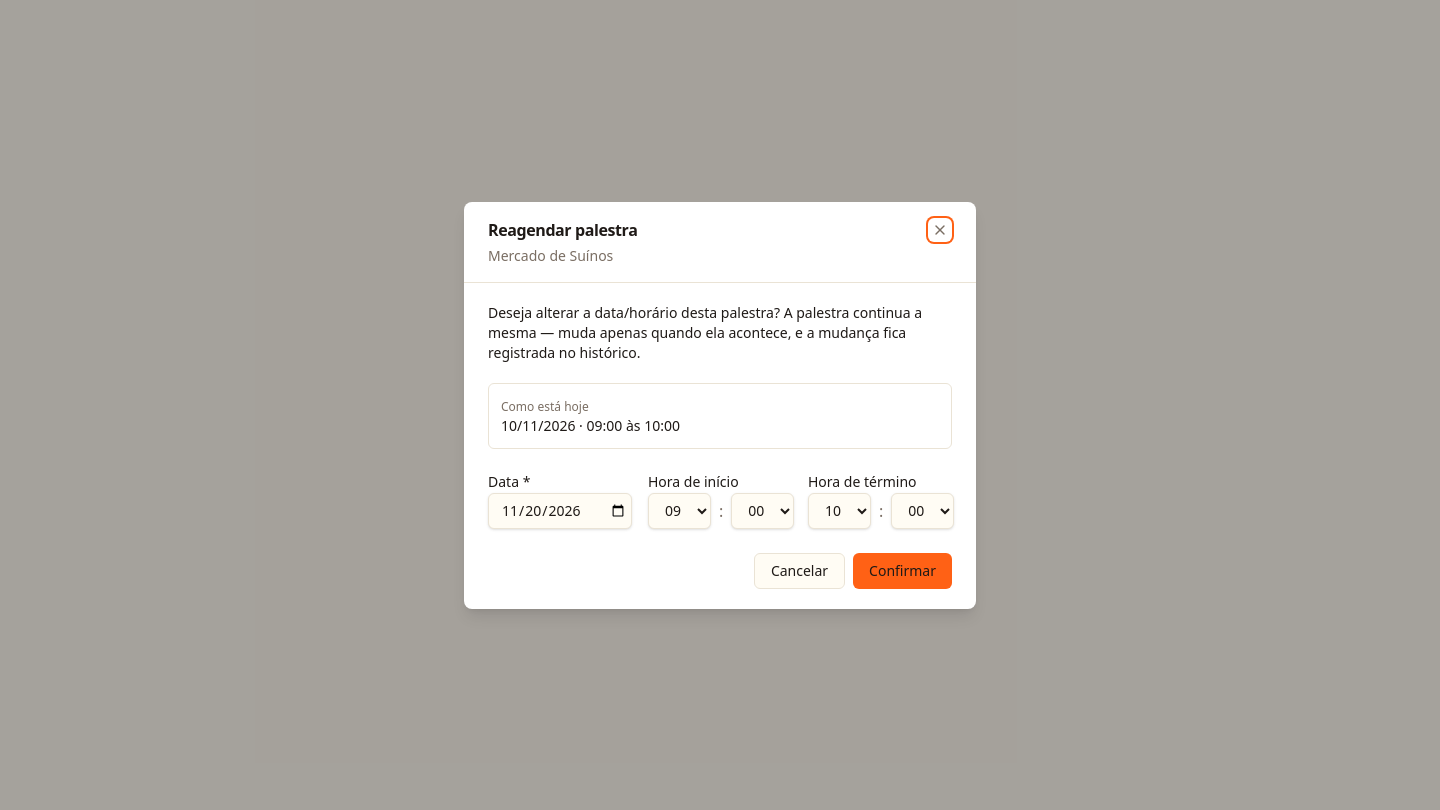
§27 o reagendamento › recusa do servidor NÃO move nada e mostra mensagem amigável
This screenshot has width=1440, height=810.
Click the button "Confirmar". click: (903, 570)
box: [853,552,952,588]
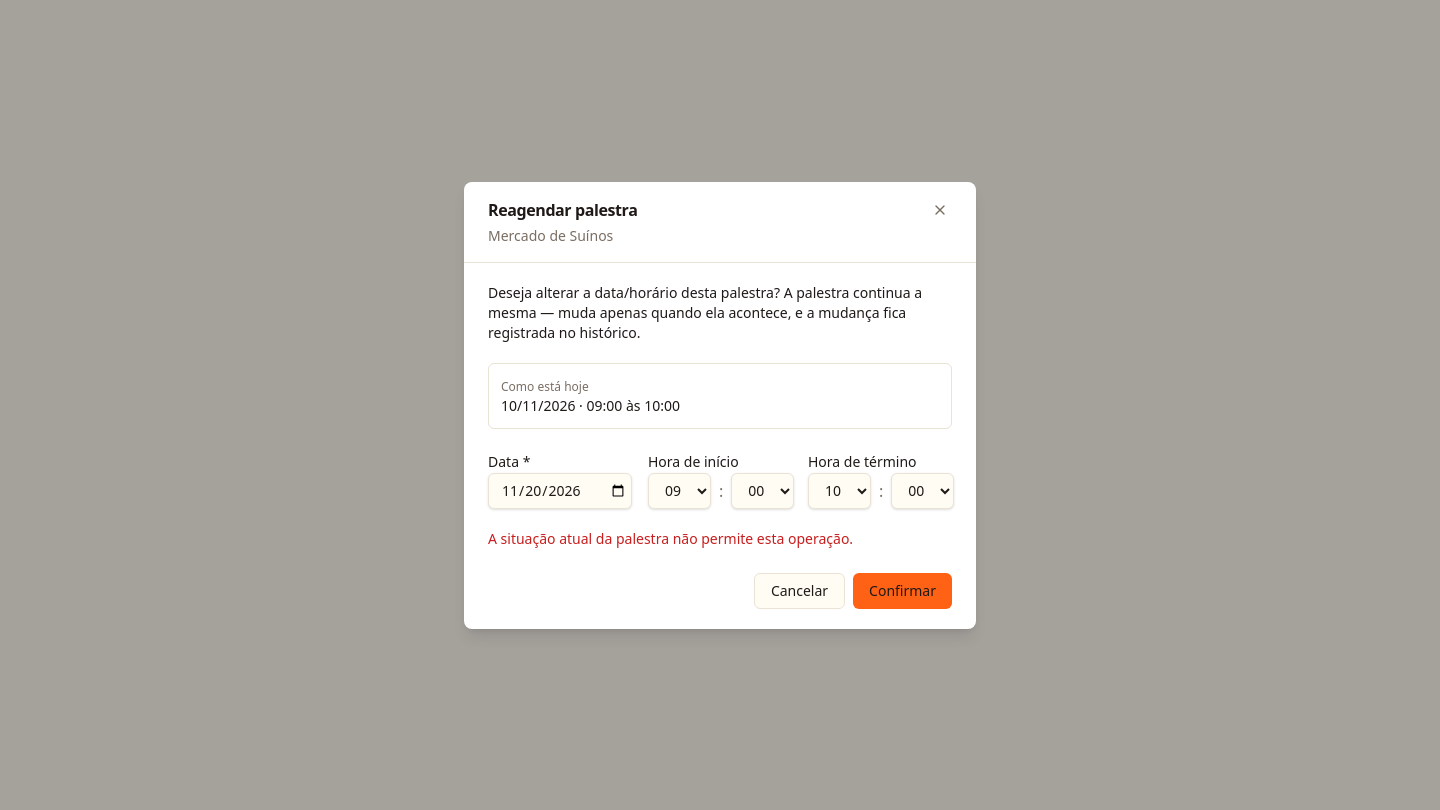
Now the message shows "não permite esta operação", box [488,528,853,548]
